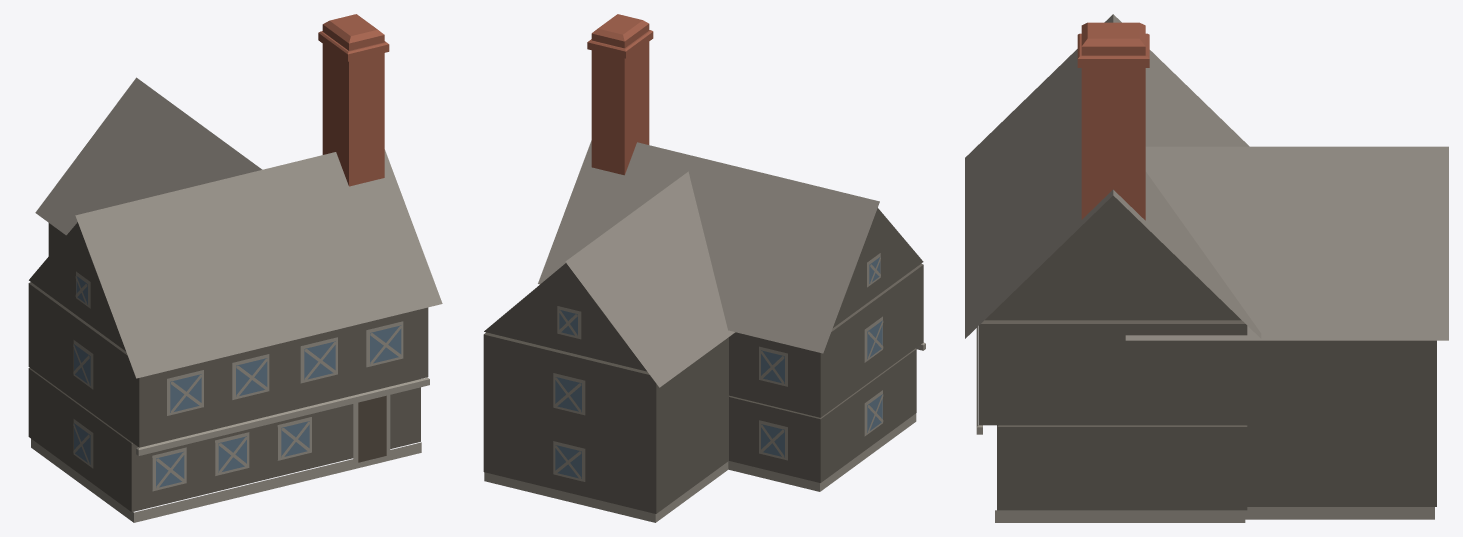
Rendered from bos-paul-revere-house.glb.
3 renders of one model, left to right at view 1: azimuth 30°, elevation 25°; view 2: azimuth 150°, elevation 25°; view 3: azimuth 270°, elevation 25°, orthographic. The views are drawn at different scales.
Visible parts, largest first — view 1: Paul Revere House; view 2: Paul Revere House; view 3: Paul Revere House.
Boxes of the visible parts, bbox=[...] form: Paul Revere House: bbox=[28, 14, 442, 522]; Paul Revere House: bbox=[483, 14, 925, 522]; Paul Revere House: bbox=[965, 14, 1448, 522].
Bounding box in the file's own units: 10.75 × 13.3 × 12.12.
